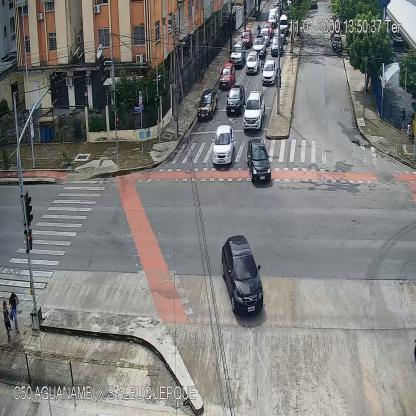car: (221, 234, 266, 318), (247, 139, 271, 183), (244, 89, 266, 131), (211, 126, 236, 161), (197, 90, 217, 119), (226, 85, 244, 114), (262, 61, 276, 87), (230, 42, 244, 68), (220, 64, 235, 86), (246, 51, 258, 73), (271, 35, 283, 55), (278, 14, 290, 31), (332, 34, 342, 51), (267, 7, 278, 22), (275, 26, 286, 40), (242, 31, 251, 48), (262, 26, 270, 44), (255, 38, 263, 54), (265, 20, 273, 34)
motorbike: (256, 24, 262, 37), (260, 56, 264, 73), (336, 40, 340, 52)
person: (9, 293, 21, 334), (2, 302, 13, 342), (200, 65, 204, 88)
